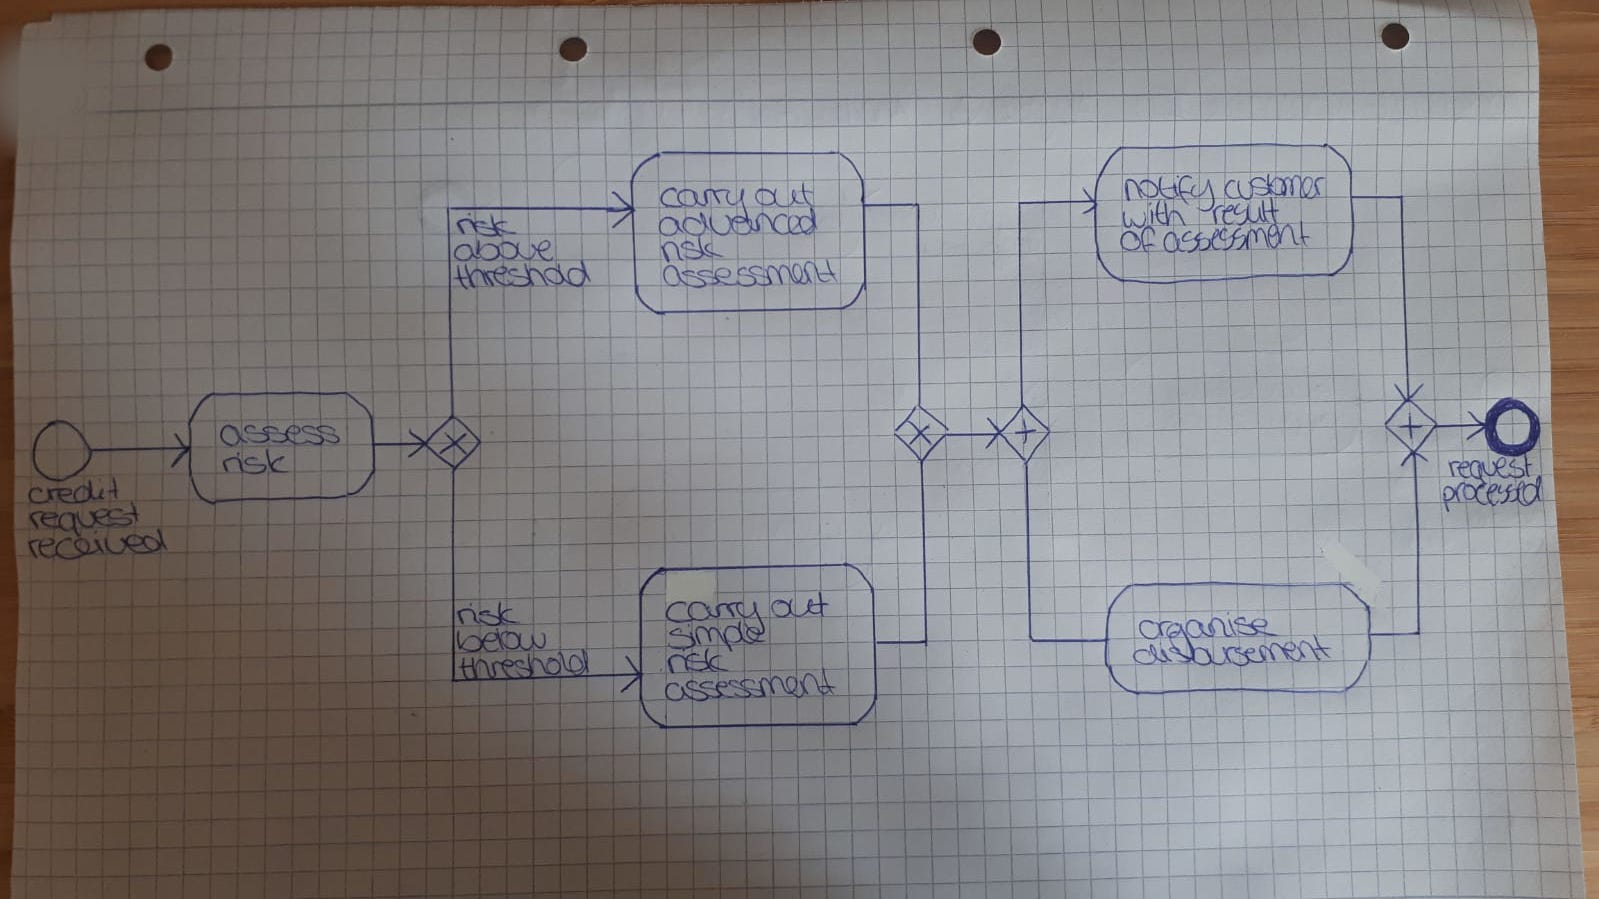above: (449, 234, 559, 265)
advanced: (655, 204, 825, 241)
assess: (215, 422, 344, 452)
assessment: (660, 664, 840, 706), (658, 257, 843, 292), (1159, 220, 1315, 257)
below: (452, 623, 551, 656)
carry: (661, 596, 769, 638), (656, 183, 752, 224)
credit: (24, 474, 124, 508)
customer: (1218, 166, 1330, 204)
disbursement: (1128, 637, 1337, 670)
notify: (1121, 171, 1221, 217)
of: (1115, 224, 1162, 259)
organize: (1134, 608, 1276, 649)
out: (765, 591, 834, 622), (751, 179, 819, 210)
processed: (1439, 472, 1547, 517)
received: (22, 524, 172, 564)
request: (23, 497, 144, 542), (1444, 451, 1538, 486)
result: (1208, 193, 1284, 229)
risk: (656, 234, 727, 267), (664, 645, 733, 678), (215, 449, 290, 479), (452, 209, 522, 240), (452, 600, 522, 629)
simple: (663, 618, 770, 655)
threshold: (455, 645, 595, 683), (451, 257, 597, 292)
with: (1118, 199, 1190, 233)
